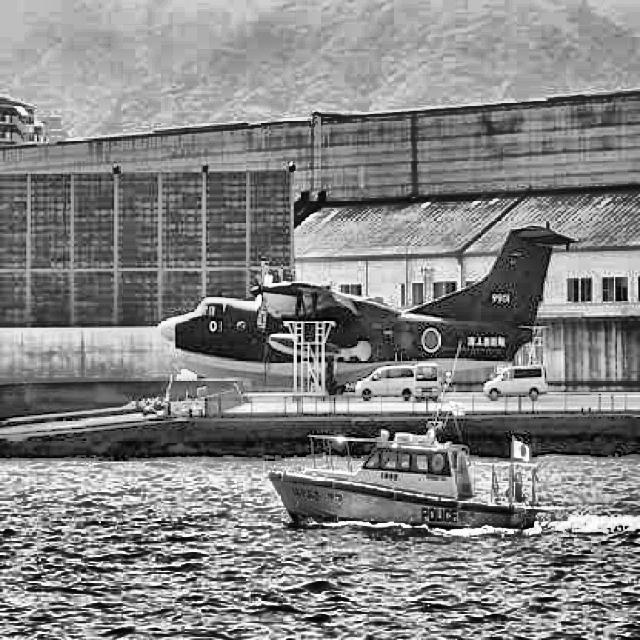US2: (157, 222, 581, 396)
